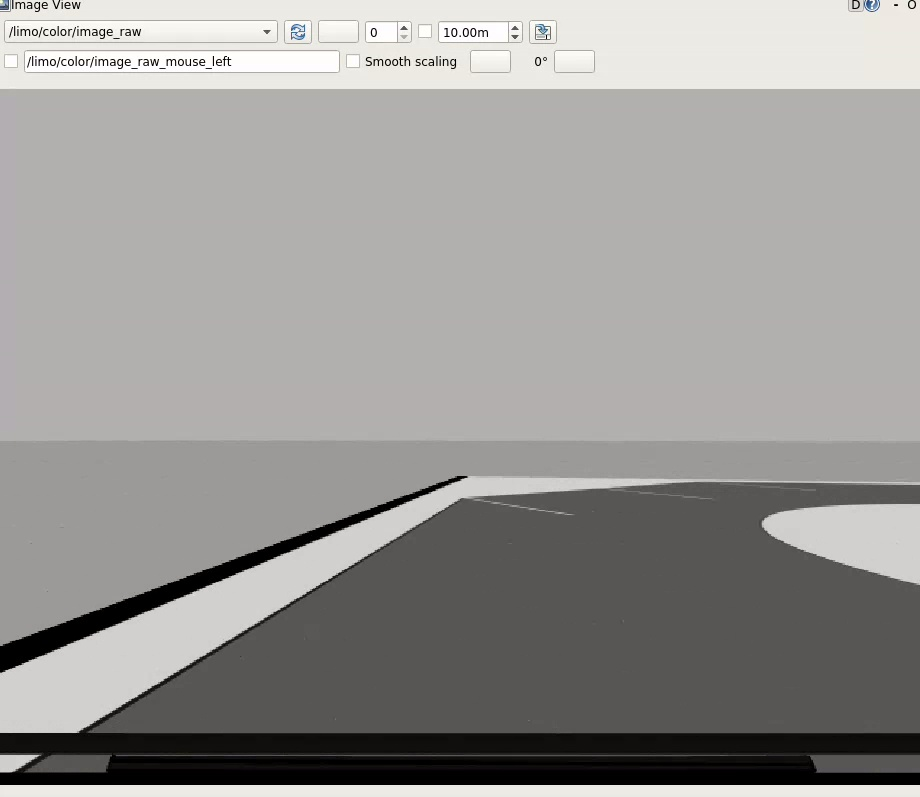Parking: (465, 489, 711, 516), (613, 482, 816, 500)
Street: (96, 483, 919, 732)
